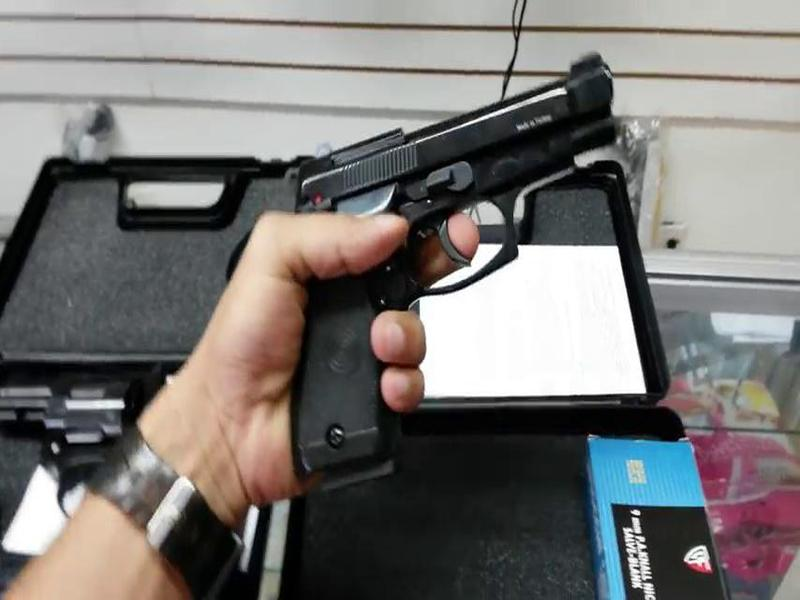Pistola: (264, 51, 643, 494)
